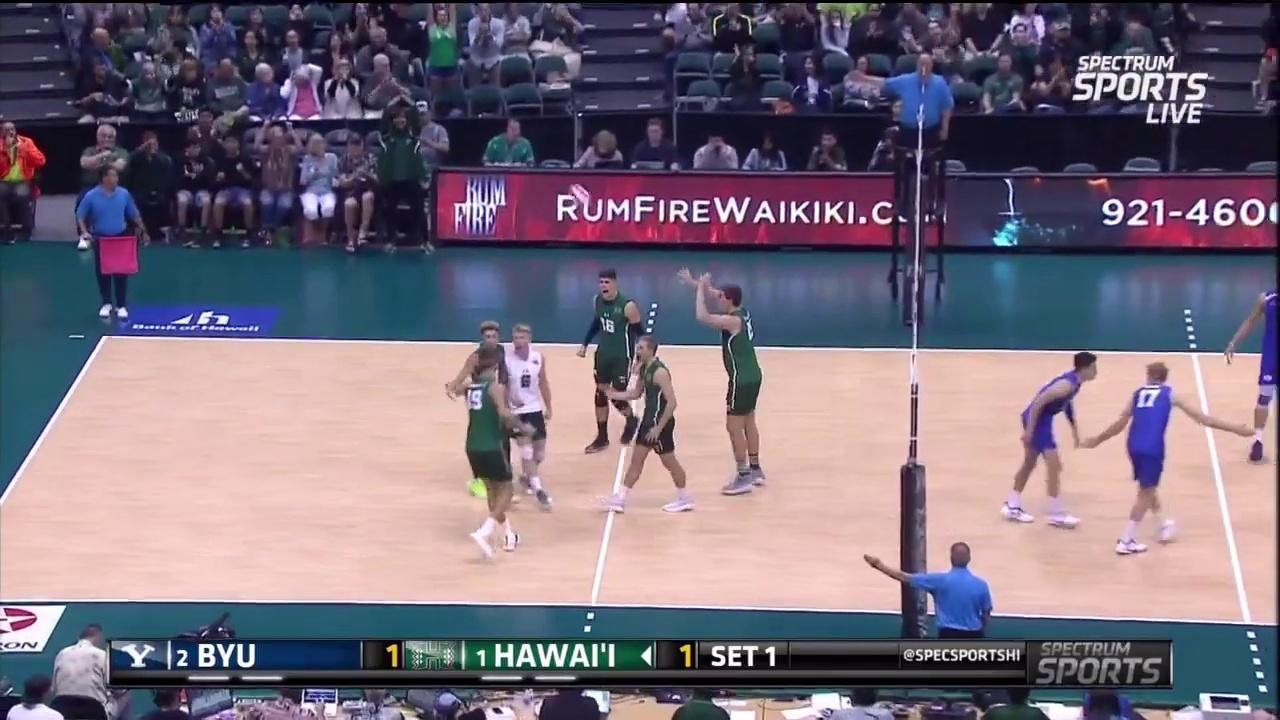player: (1105, 360, 1230, 554), (1002, 350, 1101, 531), (601, 332, 695, 509), (459, 351, 532, 565), (576, 263, 648, 467), (706, 276, 768, 494), (501, 316, 561, 506), (456, 315, 514, 501), (1234, 262, 1280, 458)
refree: (891, 531, 1000, 693), (878, 49, 956, 210), (74, 166, 148, 321)
